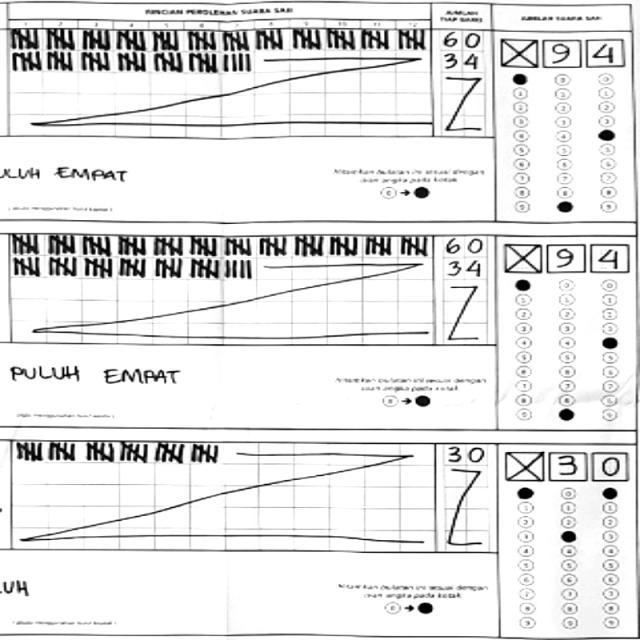Suara: (494, 32, 632, 71), (501, 445, 639, 484), (495, 238, 634, 276)
